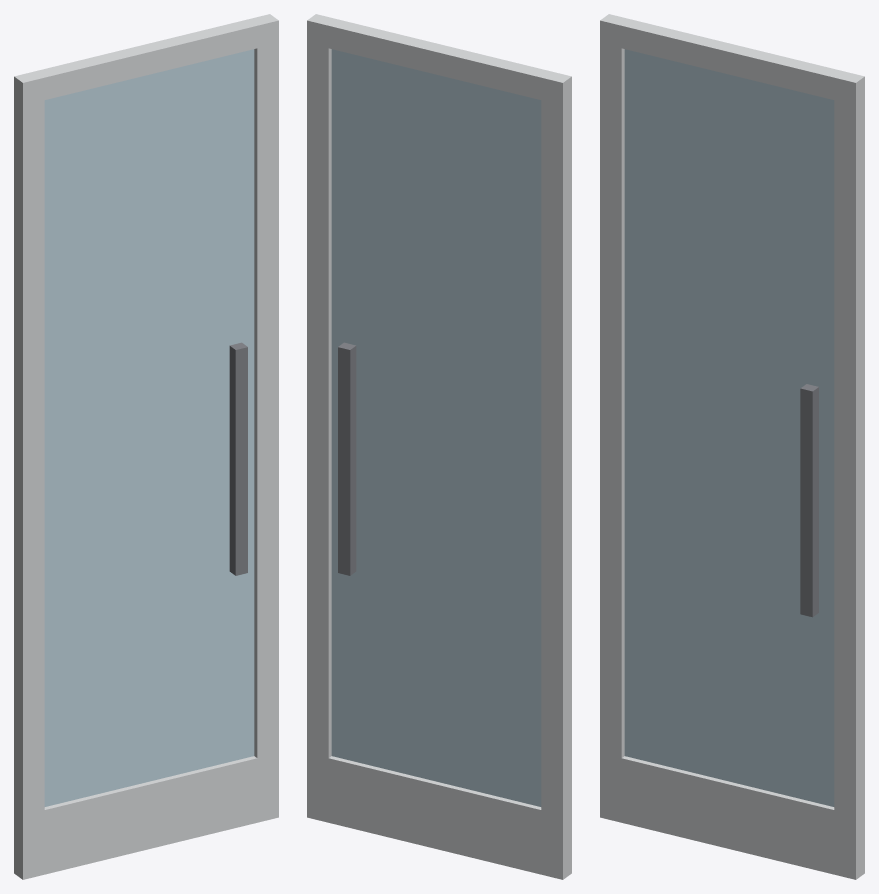
The model's file is door_leaf_glass.glb.
3 views of the same model, side by side, from view 1: azimuth 30°, elevation 25°; view 2: azimuth 150°, elevation 25°; view 3: azimuth 330°, elevation 25° (orthographic).
Parts seen in each view (by area): view 1: door_leaf_glass_glass, door_leaf_glass_alu, door_leaf_glass_dark; view 2: door_leaf_glass_glass, door_leaf_glass_alu, door_leaf_glass_dark; view 3: door_leaf_glass_glass, door_leaf_glass_alu, door_leaf_glass_dark.
Boxes of the visible parts, left/top/right/bottom form: door_leaf_glass_glass: left=44, top=49, right=254, bottom=806; door_leaf_glass_alu: left=14, top=14, right=278, bottom=879; door_leaf_glass_dark: left=229, top=342, right=247, bottom=575; door_leaf_glass_glass: left=331, top=49, right=541, bottom=806; door_leaf_glass_alu: left=307, top=14, right=571, bottom=879; door_leaf_glass_dark: left=338, top=342, right=356, bottom=575; door_leaf_glass_glass: left=624, top=49, right=834, bottom=806; door_leaf_glass_alu: left=600, top=14, right=864, bottom=879; door_leaf_glass_dark: left=800, top=384, right=818, bottom=617.
Bounding box in the file's own units: 0.83 × 2.47 × 0.12.
